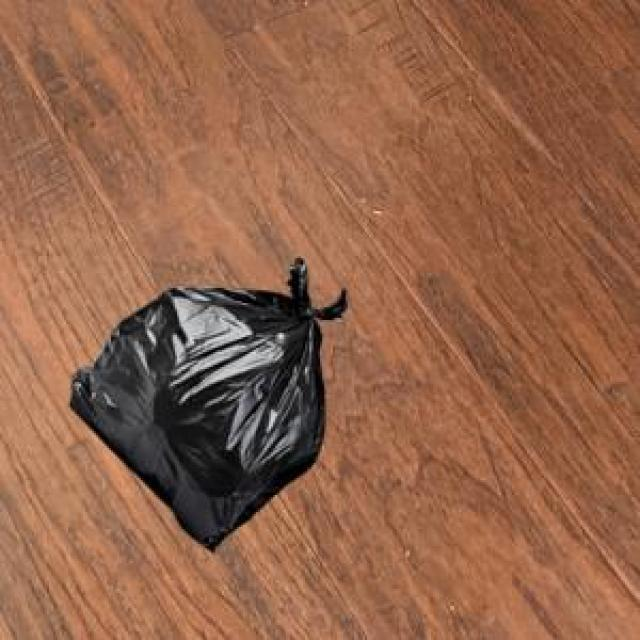waste: (72, 259, 346, 546)
